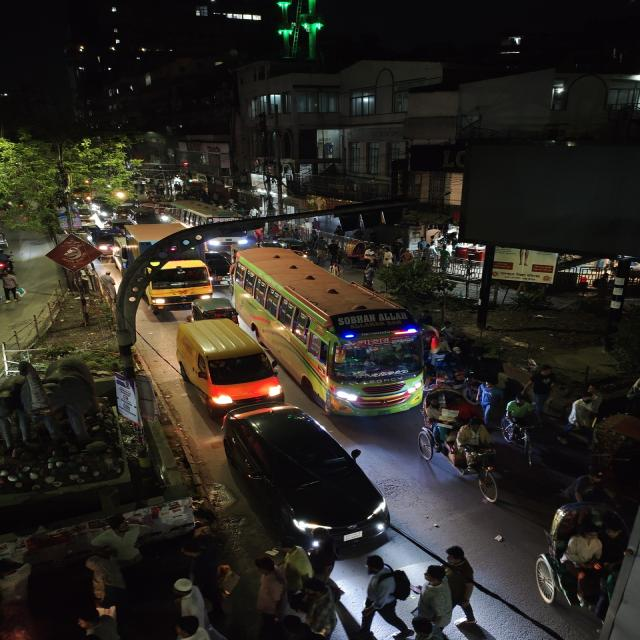bicycle: (502, 412, 536, 464)
bus: (232, 247, 434, 419), (176, 200, 239, 227)
car: (220, 405, 392, 547), (173, 319, 282, 409), (188, 294, 238, 322), (88, 227, 130, 253), (209, 230, 253, 250)
cng: (286, 239, 310, 258)
pedestrian: (360, 552, 411, 636), (441, 544, 479, 626), (82, 548, 132, 610), (251, 554, 286, 632), (68, 604, 128, 640), (208, 560, 241, 620), (526, 364, 558, 412), (165, 612, 214, 640), (168, 574, 198, 614), (470, 377, 497, 419), (0, 271, 24, 305)
rickshaw: (534, 498, 636, 632), (416, 414, 500, 498), (422, 384, 468, 426)
truck: (136, 227, 215, 310)
